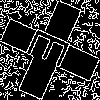E: (25, 25, 80, 75)
